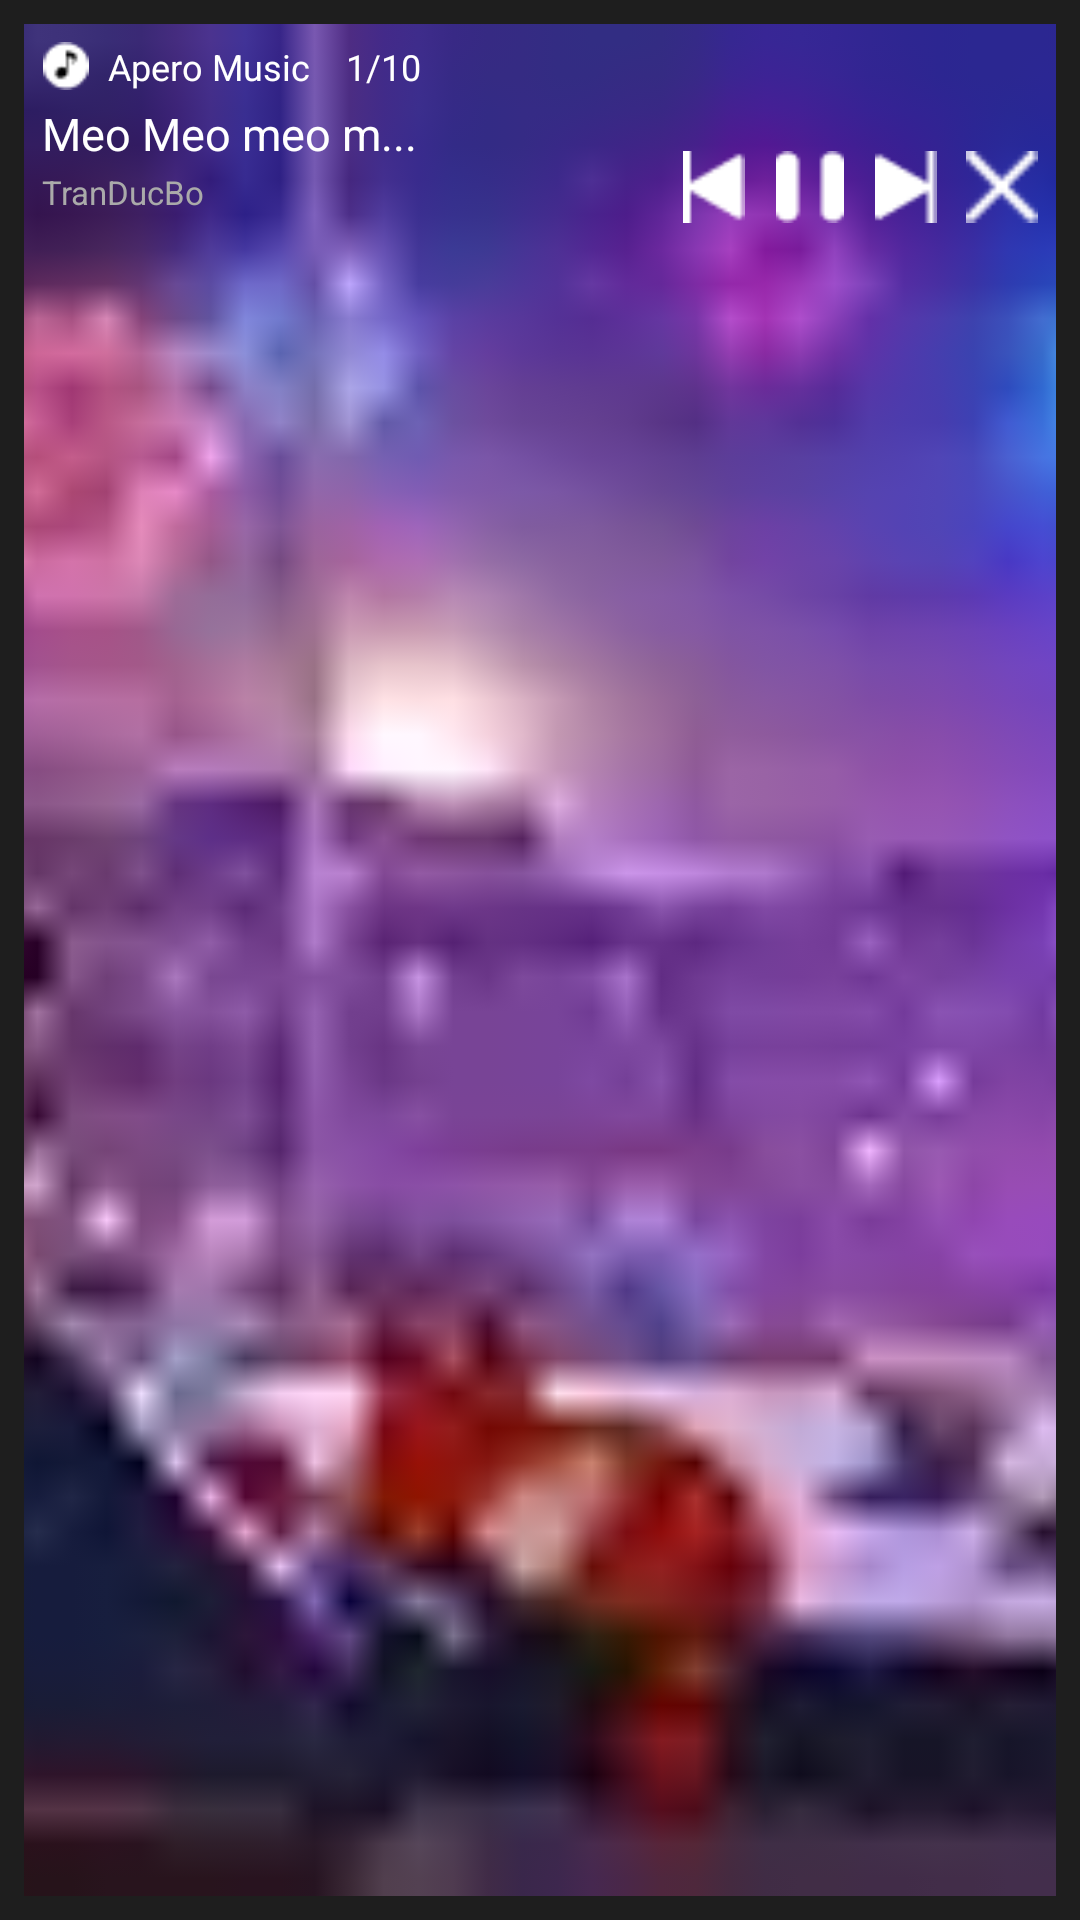

Named icons in this screenshot (1080px×1920px) and their centers, [x,y]:
close: [1002,187]
next song: [903,187]
previous song: [714,187]
